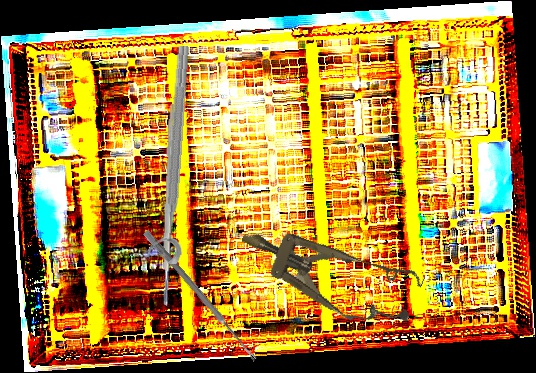Fixation Ring: (143, 44, 197, 265)
Scalpel Handle: (159, 103, 177, 306)
Speculum: (229, 204, 427, 340)
Surgical Spoon: (142, 229, 259, 363)
